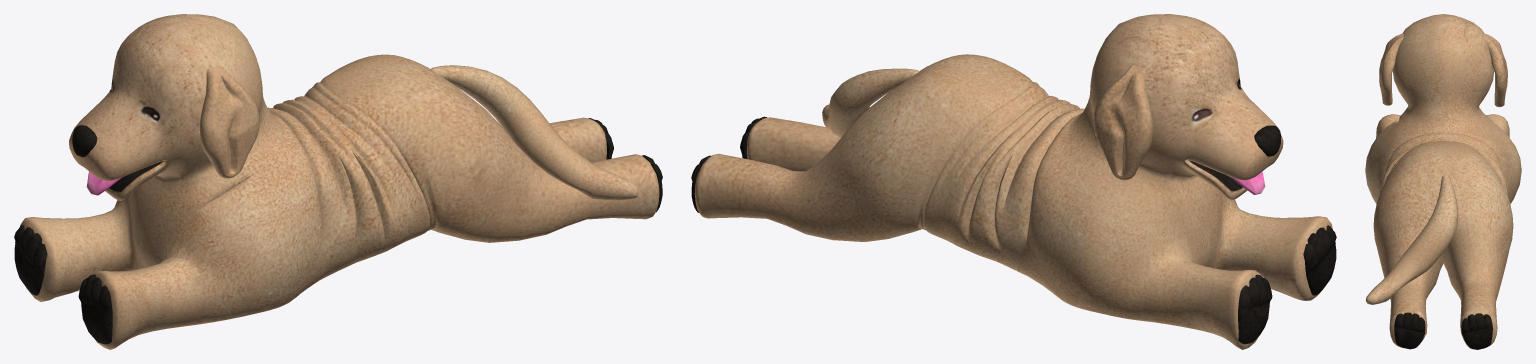
Rendered from gosig_golden_pluszak_10132788.glb.
The picture shows the model from 3 angles, left to right: view 1: azimuth 30°, elevation 25°; view 2: azimuth 150°, elevation 25°; view 3: azimuth 270°, elevation 25°; orthographic projection. The views are drawn at different scales.
Visible parts, largest first — view 1: gosig_golden_pluszak_10132788; view 2: gosig_golden_pluszak_10132788; view 3: gosig_golden_pluszak_10132788.
Part boxes in pixels (bbox=[...]): gosig_golden_pluszak_10132788: bbox=[14, 14, 662, 349]; gosig_golden_pluszak_10132788: bbox=[691, 14, 1336, 349]; gosig_golden_pluszak_10132788: bbox=[1365, 14, 1521, 349].
Bounding box in the file's own units: 0.7 × 0.3287 × 0.2459.
Materials: 1 (1 with a texture image).
